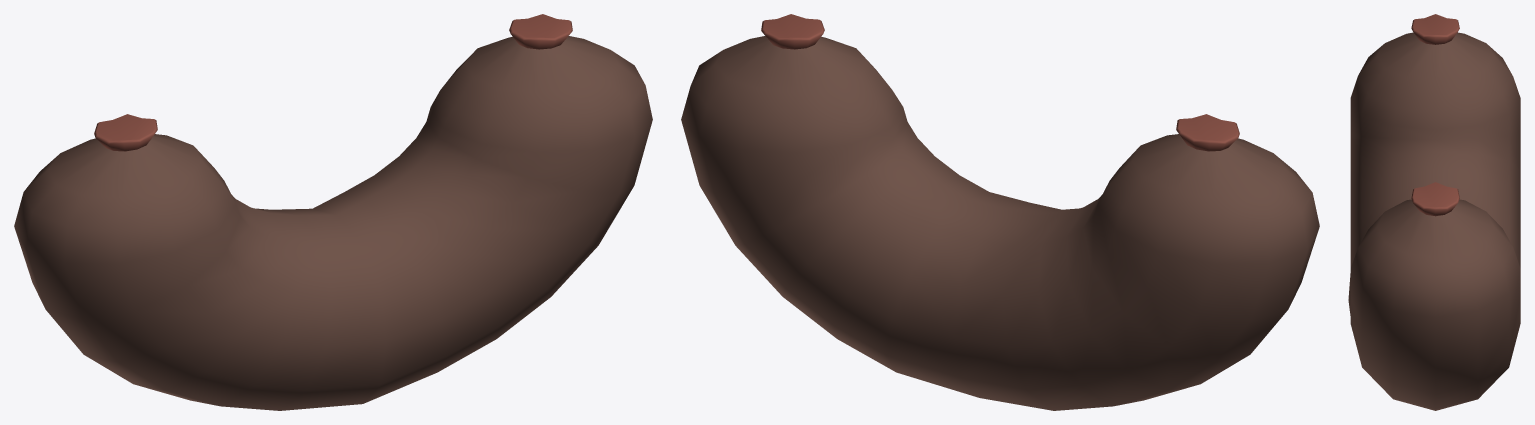
Rendered from Sausage_mini.006.fbx.
The picture shows the model from 3 angles, left to right: view 1: azimuth 30°, elevation 25°; view 2: azimuth 150°, elevation 25°; view 3: azimuth 270°, elevation 25°; orthographic projection. The views are drawn at different scales.
Parts seen in each view (by area): view 1: Sausage_mini.006; view 2: Sausage_mini.006; view 3: Sausage_mini.006.
Boxes of the visible parts, x1,y1,x2,y2 form: Sausage_mini.006: (14, 14, 652, 410); Sausage_mini.006: (681, 14, 1319, 410); Sausage_mini.006: (1348, 14, 1520, 410).
Size of the model in its own units: 123 by 35.62 by 61.27.
